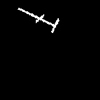double_crochet: (18, 8, 58, 32)
